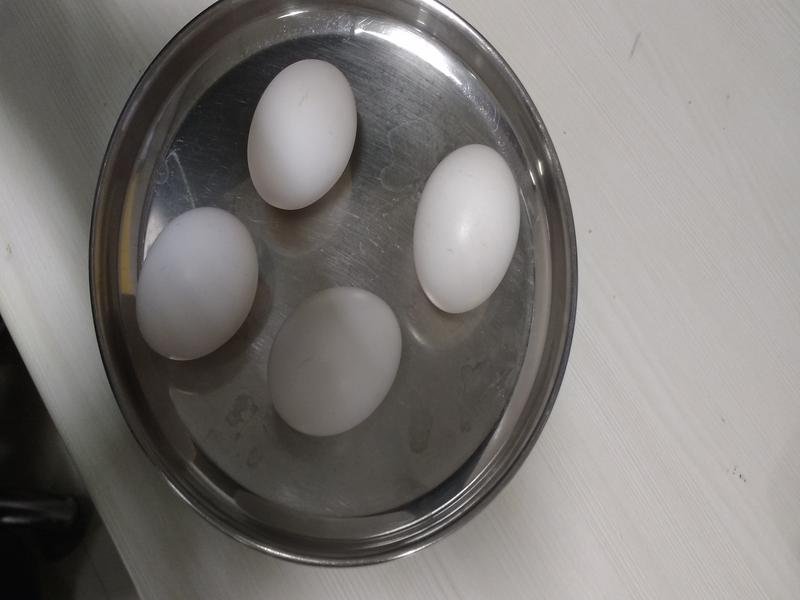egg: (264, 287, 405, 434)
